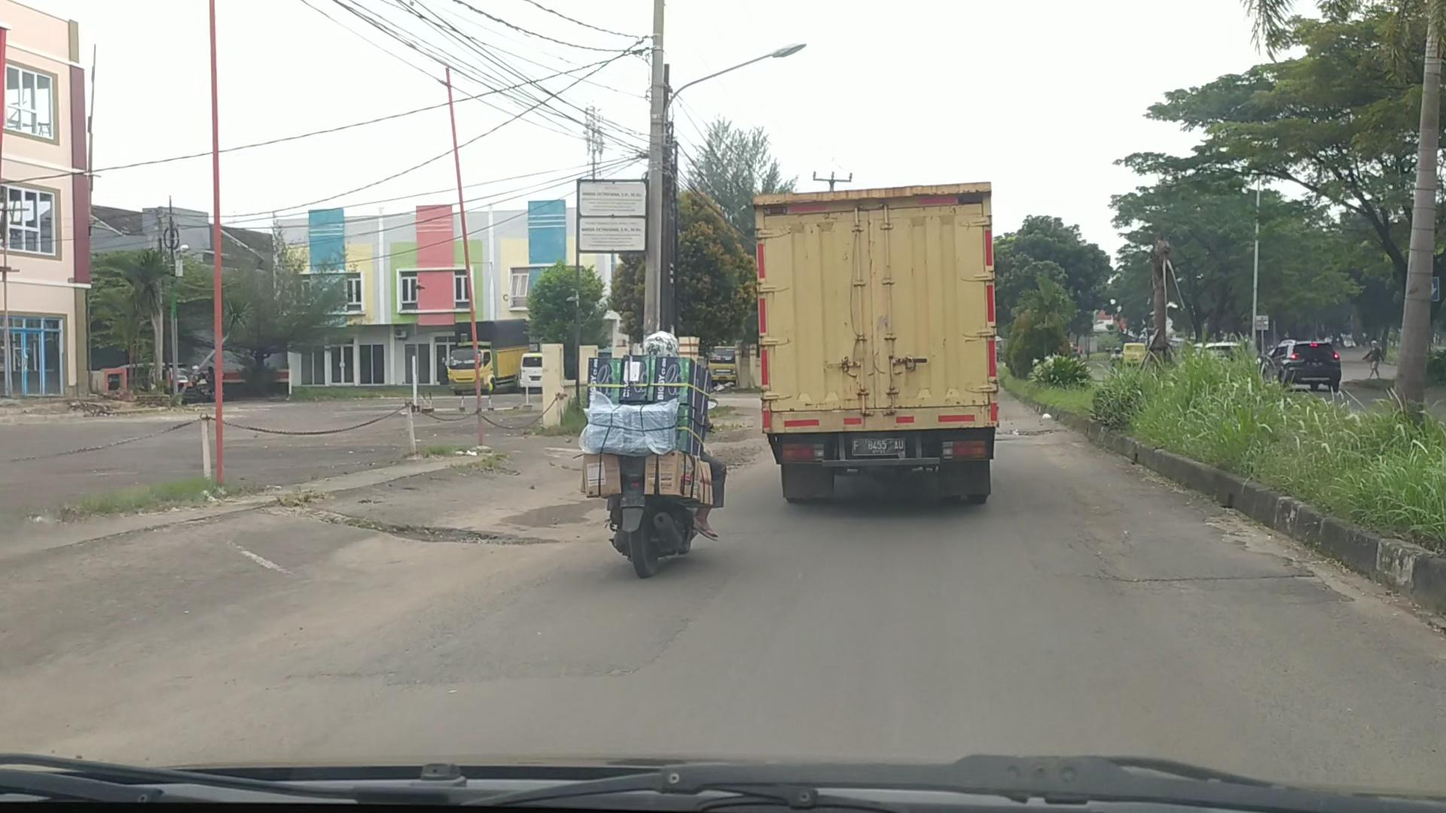pothole: (302, 502, 551, 550)
